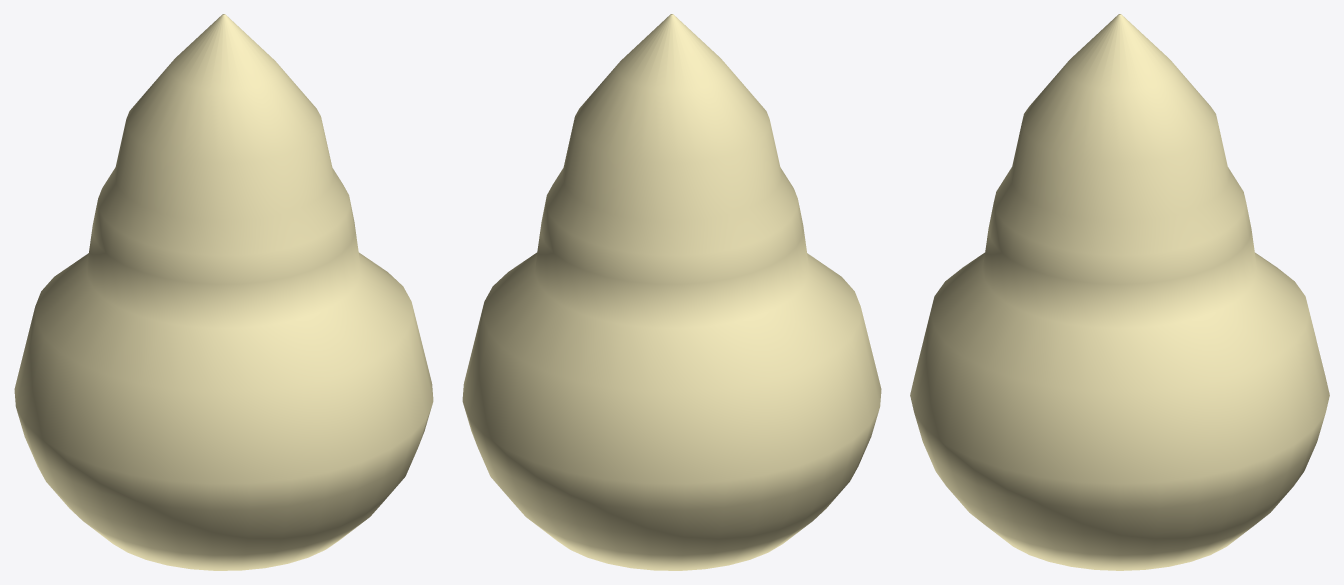
Rendered from sponge.fbx.
3 renders of one model, left to right at view 1: azimuth 30°, elevation 25°; view 2: azimuth 150°, elevation 25°; view 3: azimuth 270°, elevation 25°, orthographic.
Parts seen in each view (by area): view 1: sponge; view 2: sponge; view 3: sponge.
Part boxes in pixels (<box>): sponge: <box>14,14,433,570</box>; sponge: <box>462,14,881,570</box>; sponge: <box>910,14,1329,570</box>.
Size of the model in its own units: 35.78 by 47.22 by 35.78.
